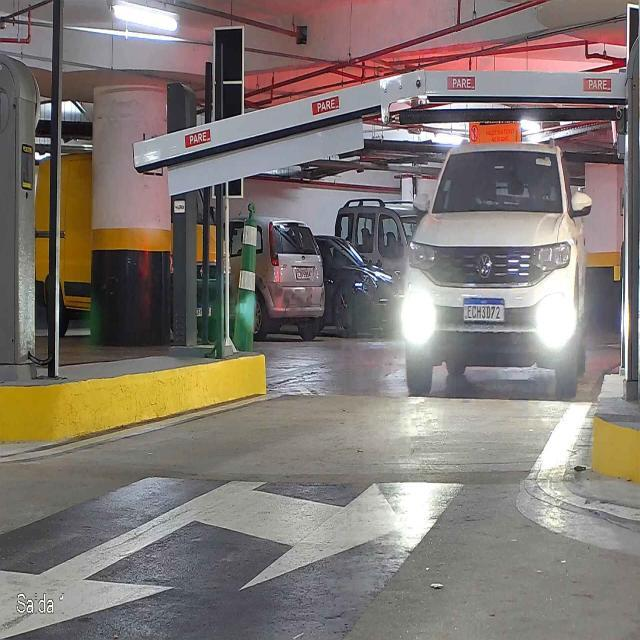mercosul_plate: (461, 296, 508, 326)
